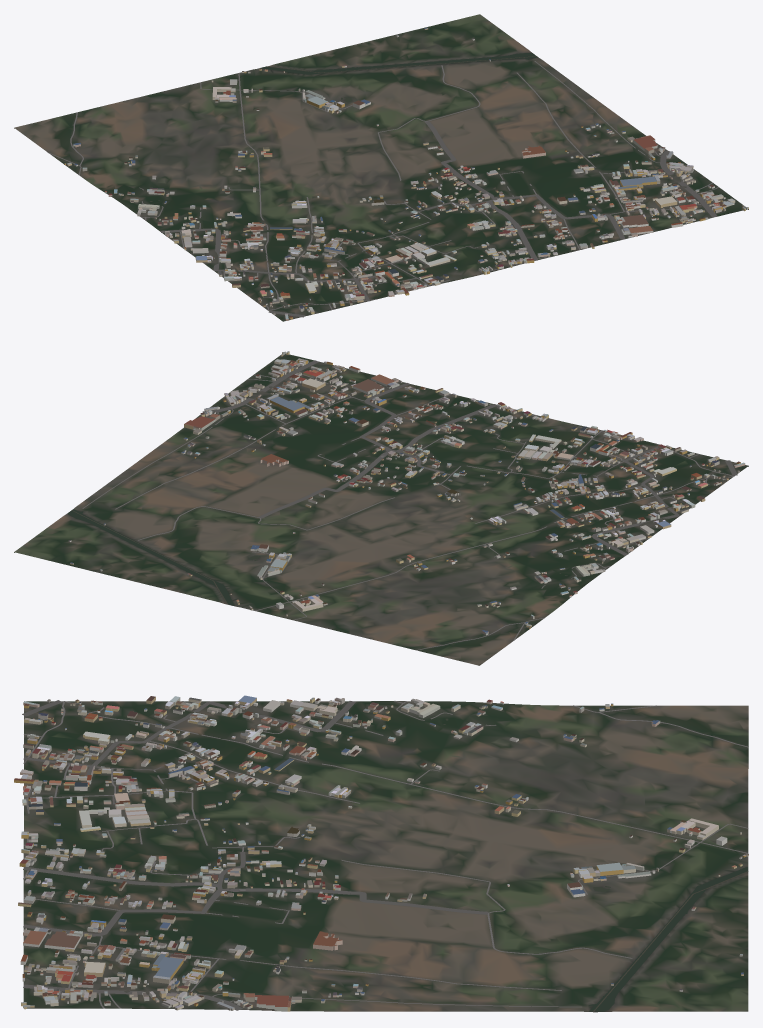
3 renders of one model, top to bottom at view 1: azimuth 30°, elevation 25°; view 2: azimuth 150°, elevation 25°; view 3: azimuth 270°, elevation 25°, orthographic. The views are drawn at different scales.
Parts seen in each view (by area): view 1: ground, buildings, roads, water; view 2: ground, buildings, roads, water; view 3: ground, buildings, roads, water.
Boxes of the visible parts, left/top/right/bottom form: ground: left=14, top=14, right=748, bottom=321; buildings: left=64, top=27, right=748, bottom=320; roads: left=48, top=61, right=718, bottom=317; water: left=150, top=53, right=538, bottom=201; ground: left=14, top=353, right=748, bottom=665; buildings: left=68, top=351, right=745, bottom=635; roads: left=82, top=360, right=737, bottom=650; water: left=67, top=509, right=567, bottom=605; ground: left=23, top=701, right=748, bottom=1012; buildings: left=14, top=695, right=748, bottom=1011; roads: left=22, top=700, right=748, bottom=1010; water: left=443, top=718, right=748, bottom=1011.
Bounding box in the file's own units: 1418 × 24.96 × 1421.
